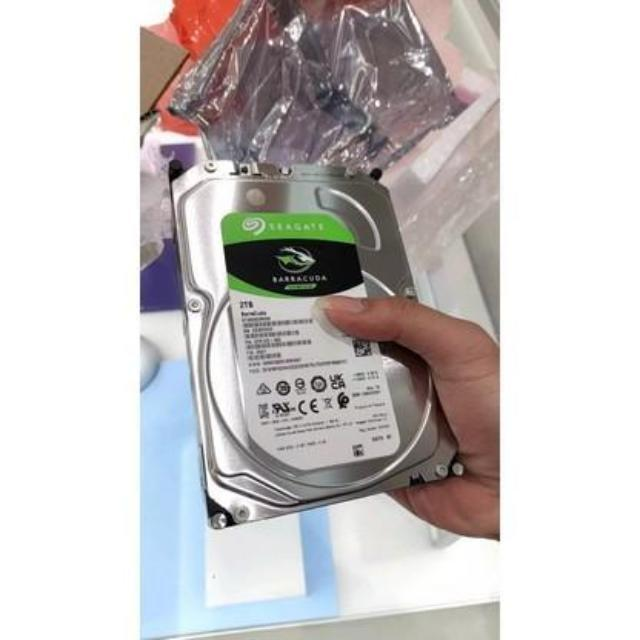DISK: (172, 154, 464, 522)
